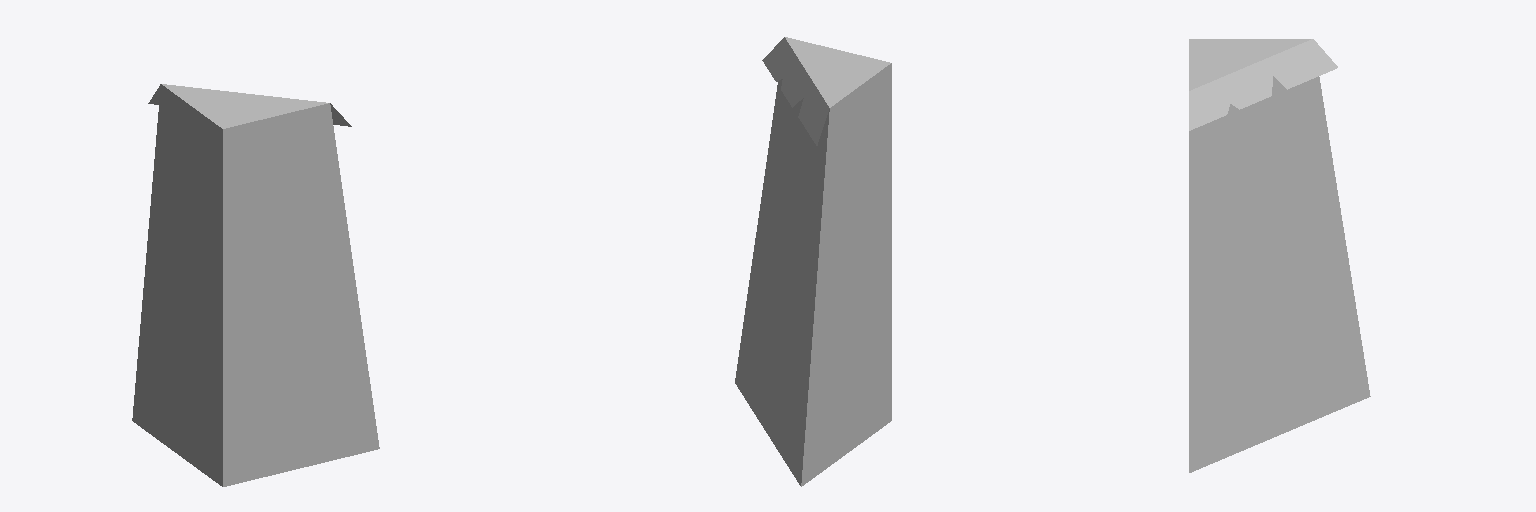
The model's file is cliffGrey_cornerTop.obj.
3 renders of one model, left to right at view 1: azimuth 30°, elevation 25°; view 2: azimuth 150°, elevation 25°; view 3: azimuth 270°, elevation 25°, orthographic.
Parts seen in each view (by area): view 1: cliffGrey_cornerTop; view 2: cliffGrey_cornerTop; view 3: cliffGrey_cornerTop.
Boxes of the visible parts, x1=… form: cliffGrey_cornerTop: x1=132, y1=84, x2=379, y2=486; cliffGrey_cornerTop: x1=735, y1=37, x2=891, y2=486; cliffGrey_cornerTop: x1=1189, y1=39, x2=1370, y2=472.
Bounding box in the file's own units: 4.58 × 10 × 4.58.